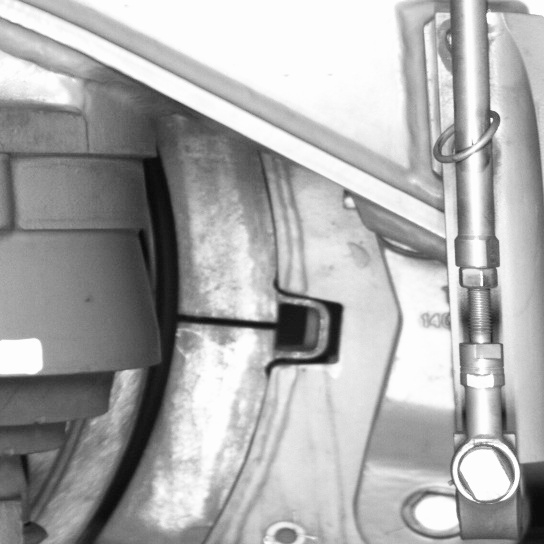KnifeSwitch: (74, 152, 285, 541)
